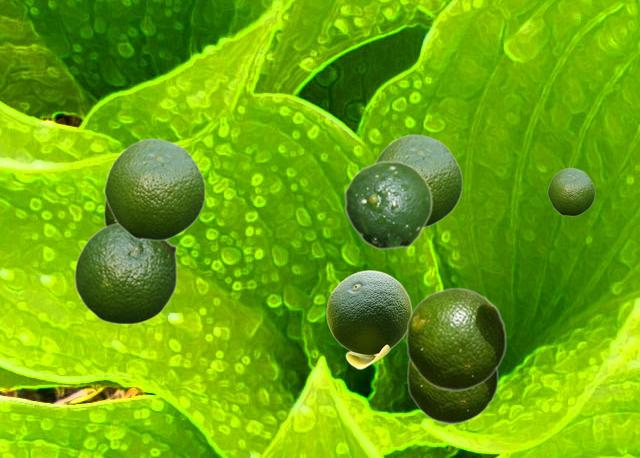calamansi: (74, 221, 177, 324), (103, 137, 205, 240), (405, 287, 506, 390), (326, 270, 411, 368), (374, 133, 462, 227), (344, 160, 432, 249), (406, 359, 498, 423), (547, 167, 594, 215), (103, 200, 114, 225)
